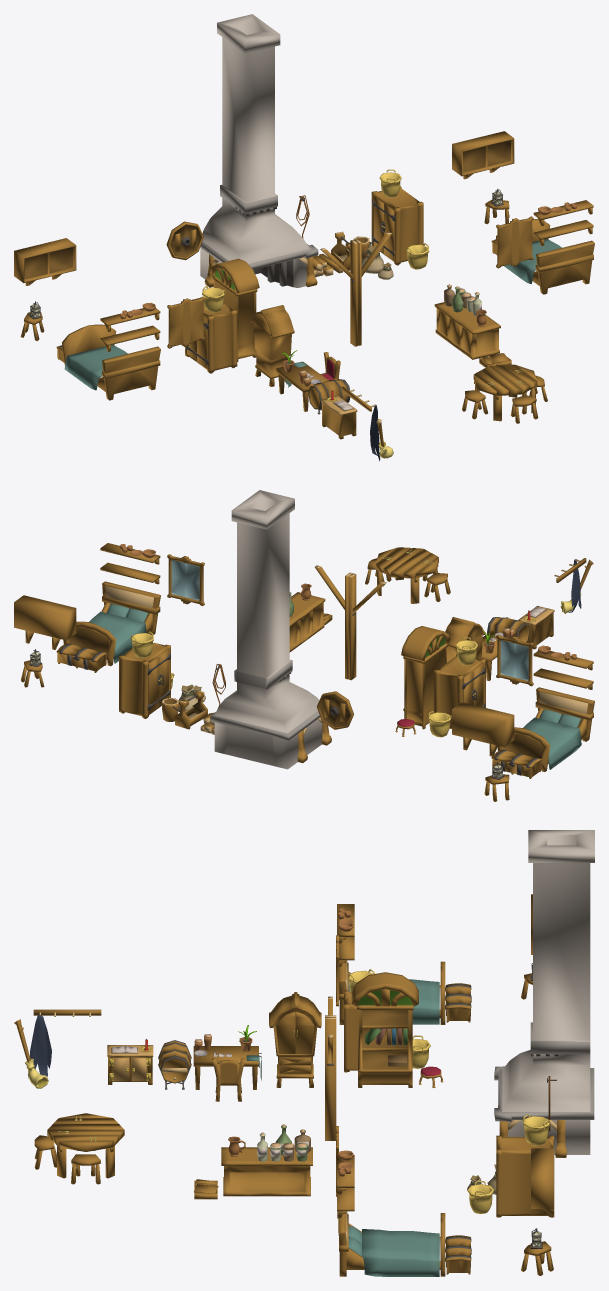
The model's file is house2_interior2.fbx.
3 renders of one model, top to bottom at view 1: azimuth 30°, elevation 25°; view 2: azimuth 150°, elevation 25°; view 3: azimuth 270°, elevation 25°, orthographic. The views are drawn at different scales.
Visible parts, largest first — view 1: Empty_Mesh; view 2: Empty_Mesh; view 3: Empty_Mesh.
Part boxes in pixels (x1,y1,x2,y2): Empty_Mesh: [14, 14, 594, 461]; Empty_Mesh: [14, 490, 594, 801]; Empty_Mesh: [14, 830, 594, 1276].
Bounding box in the file's own units: 72.8 × 35.4 × 62.88.
